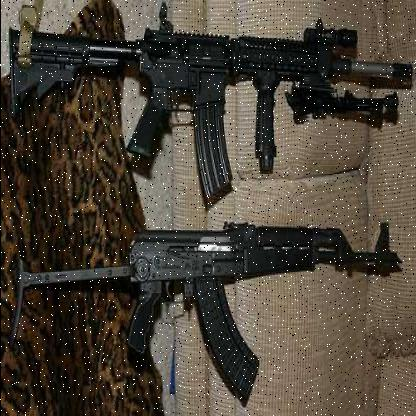rifle: (1, 196, 411, 415), (1, 13, 413, 211)
